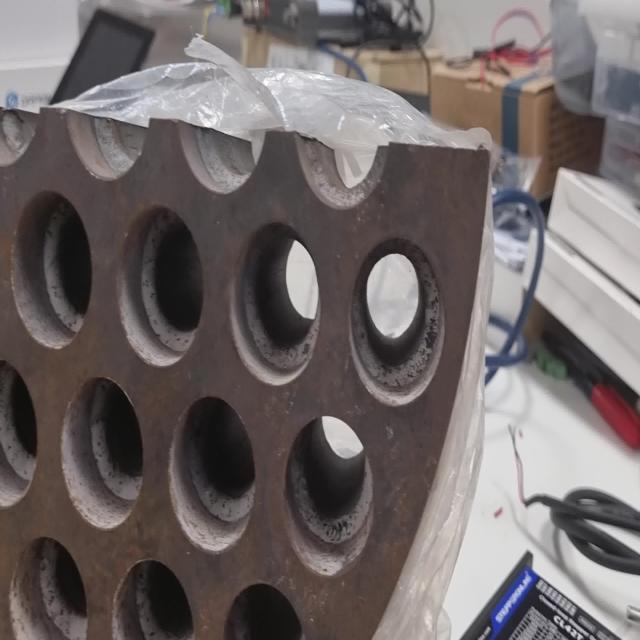Hole: (348, 234, 446, 407), (229, 220, 321, 386), (283, 416, 374, 578), (116, 205, 205, 368), (168, 394, 256, 554), (10, 190, 92, 350), (60, 375, 143, 531), (8, 535, 89, 639), (111, 556, 196, 640), (0, 357, 39, 510), (222, 580, 308, 640)
